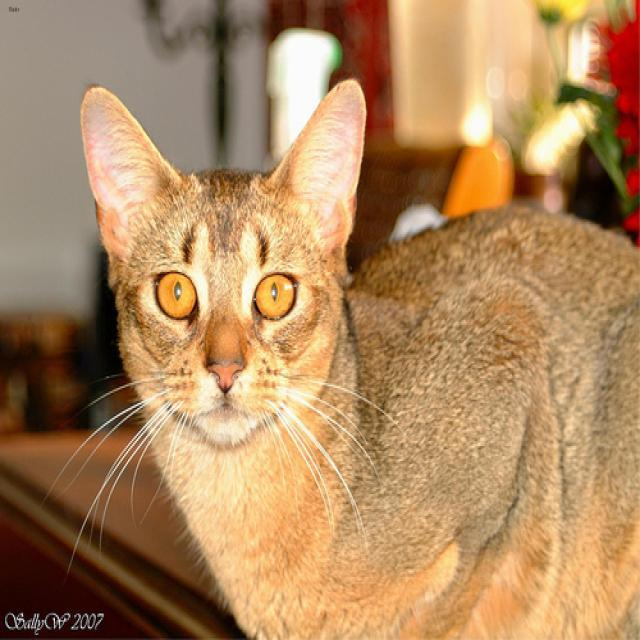Abyssinian: (62, 79, 382, 458)
